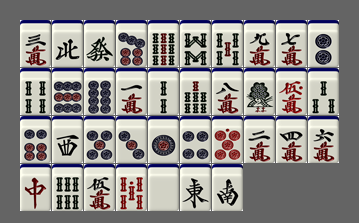0m: (276, 68, 307, 115)
0p: (212, 116, 243, 163)
0s: (116, 164, 147, 211)
1m: (116, 68, 147, 115)
1p: (148, 116, 179, 163)
1s: (244, 68, 275, 115)
1z: (180, 164, 211, 211)
2m: (244, 116, 275, 163)
2p: (308, 20, 339, 67)
2s: (148, 68, 179, 115)
2z: (212, 164, 243, 211)
3m: (20, 20, 51, 67)
3p: (116, 116, 147, 163)
3s: (308, 68, 339, 115)
3z: (52, 116, 83, 163)
4m: (276, 116, 307, 163)
4p: (180, 116, 211, 163)
4s: (20, 68, 51, 115)
4z: (52, 20, 83, 67)
5m: (84, 164, 115, 211)
5p: (84, 116, 115, 163)
5s: (212, 20, 243, 67)
5z: (148, 164, 179, 211)
6m: (308, 116, 339, 163)
6p: (20, 116, 51, 163)
6s: (52, 164, 83, 211)
6z: (84, 20, 115, 67)
7m: (276, 20, 307, 67)
7p: (116, 20, 147, 67)
7s: (180, 68, 211, 115)
7z: (20, 164, 51, 211)
8m: (212, 68, 243, 115)
8p: (84, 68, 115, 115)
8s: (180, 20, 211, 67)
9m: (244, 20, 275, 67)
9p: (52, 68, 83, 115)
9s: (148, 20, 179, 67)
